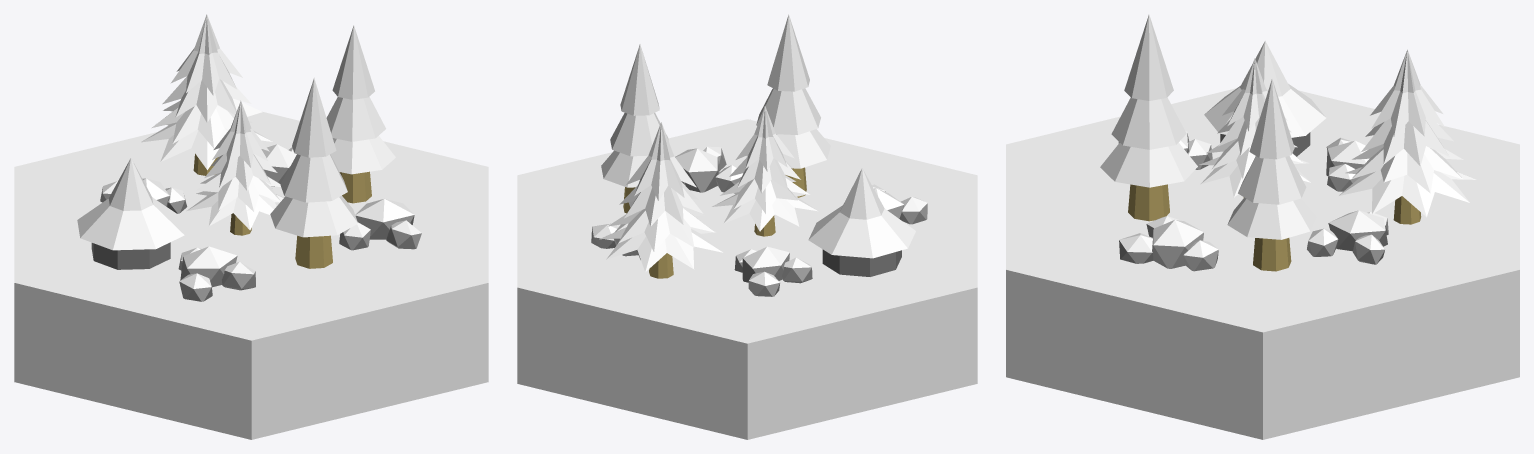
File: Casas_Pinos_Rocas_Nieve_1.fbx
3 renders of one model, left to right at view 1: azimuth 30°, elevation 25°; view 2: azimuth 150°, elevation 25°; view 3: azimuth 270°, elevation 25°, orthographic. The views are drawn at different scales.
Visible parts, largest first — view 1: Casas_Pinos_Rocas_Nieve_1; view 2: Casas_Pinos_Rocas_Nieve_1; view 3: Casas_Pinos_Rocas_Nieve_1.
Boxes of the visible parts, box(x1,y1,x2,y2) form: Casas_Pinos_Rocas_Nieve_1: box(14, 14, 488, 439); Casas_Pinos_Rocas_Nieve_1: box(517, 14, 977, 439); Casas_Pinos_Rocas_Nieve_1: box(1006, 14, 1519, 439).
Size of the model in its own units: 200 by 114 by 173.
